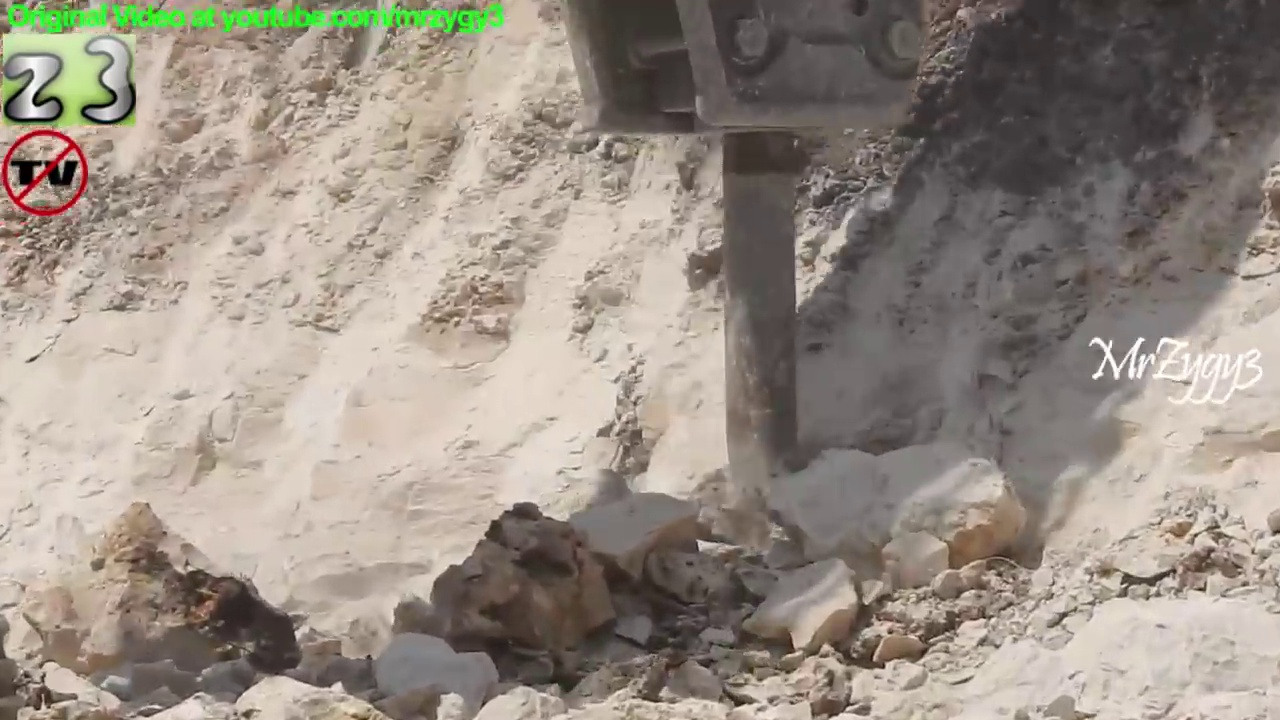excavator: (547, 1, 953, 541)
